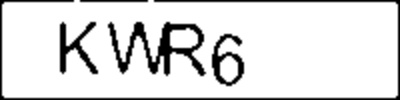6: (208, 30, 246, 88)
K: (56, 18, 104, 78)
R: (163, 20, 207, 83)
W: (103, 19, 170, 75)
